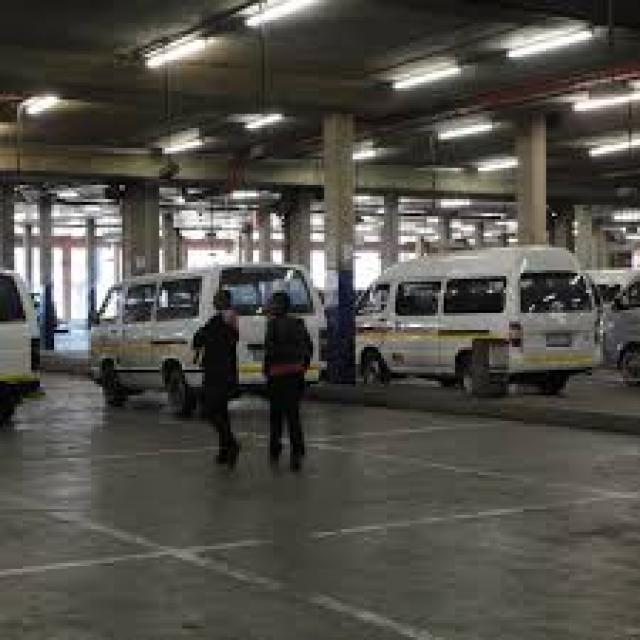MiniBus taxi: (353, 239, 606, 395), (85, 262, 330, 409)
Pedestrians: (194, 290, 248, 472), (265, 290, 310, 475)
